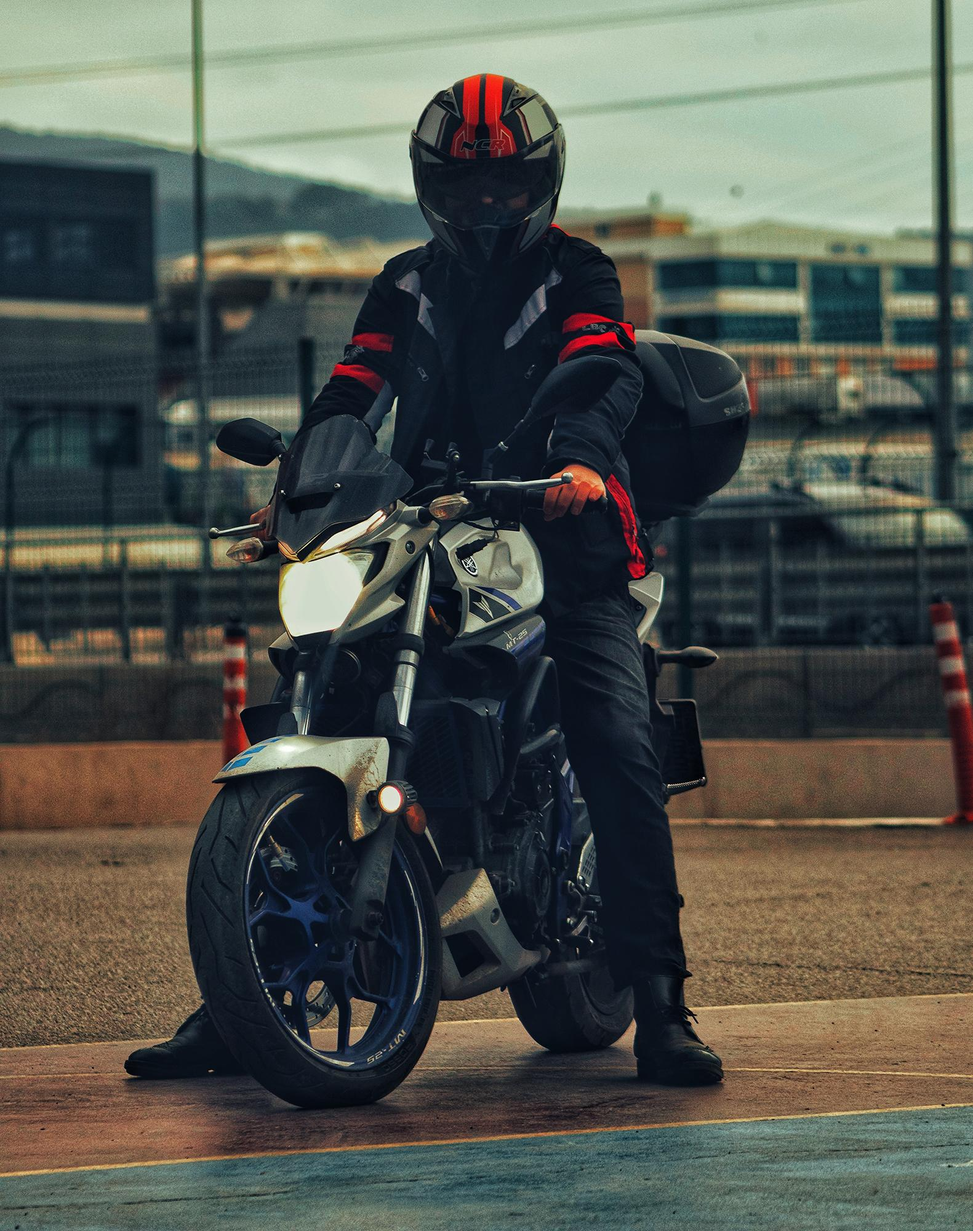helmet: (408, 72, 567, 279)
